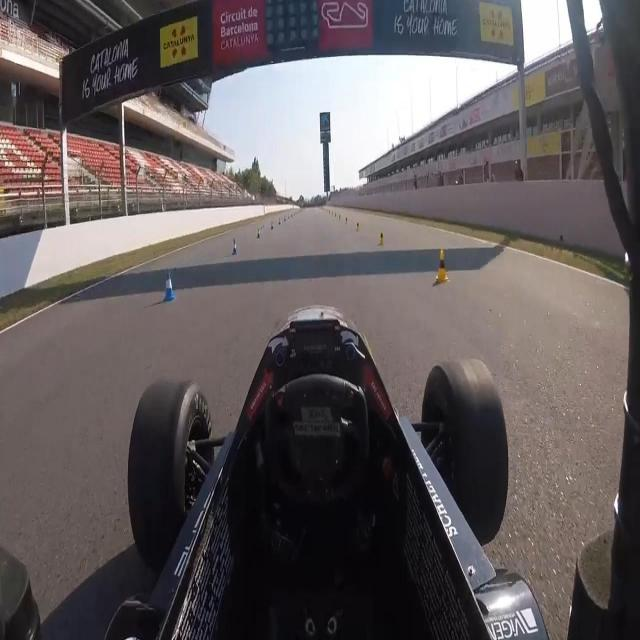blue_cone: (163, 268, 176, 303)
yellow_cone: (437, 250, 449, 282)
